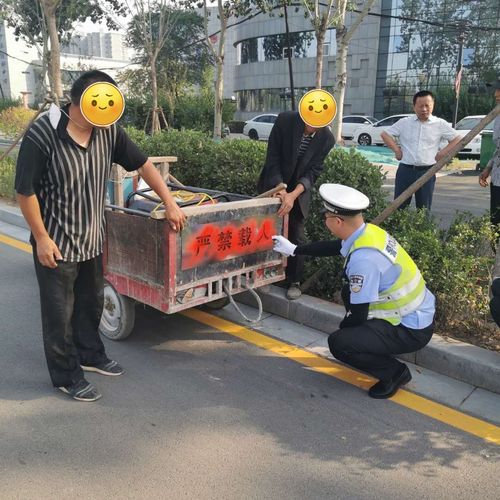driver: (268, 85, 333, 216)
overloading: (11, 2, 309, 390)
passenger: (27, 71, 129, 395)
